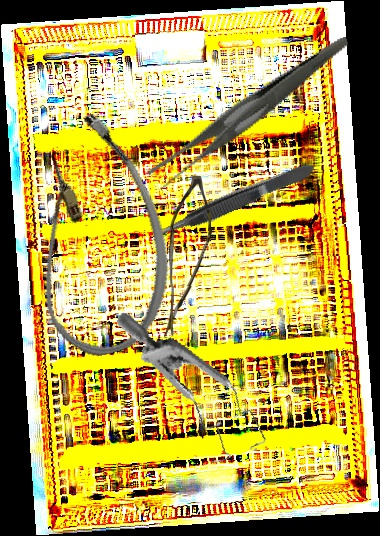Cannula: (0, 103, 191, 367)
Dressing Forceps: (127, 36, 373, 192)
Micro Scissor: (161, 175, 214, 340)
Speculum: (88, 311, 289, 475)
Tissue Forceps: (149, 159, 319, 244)
